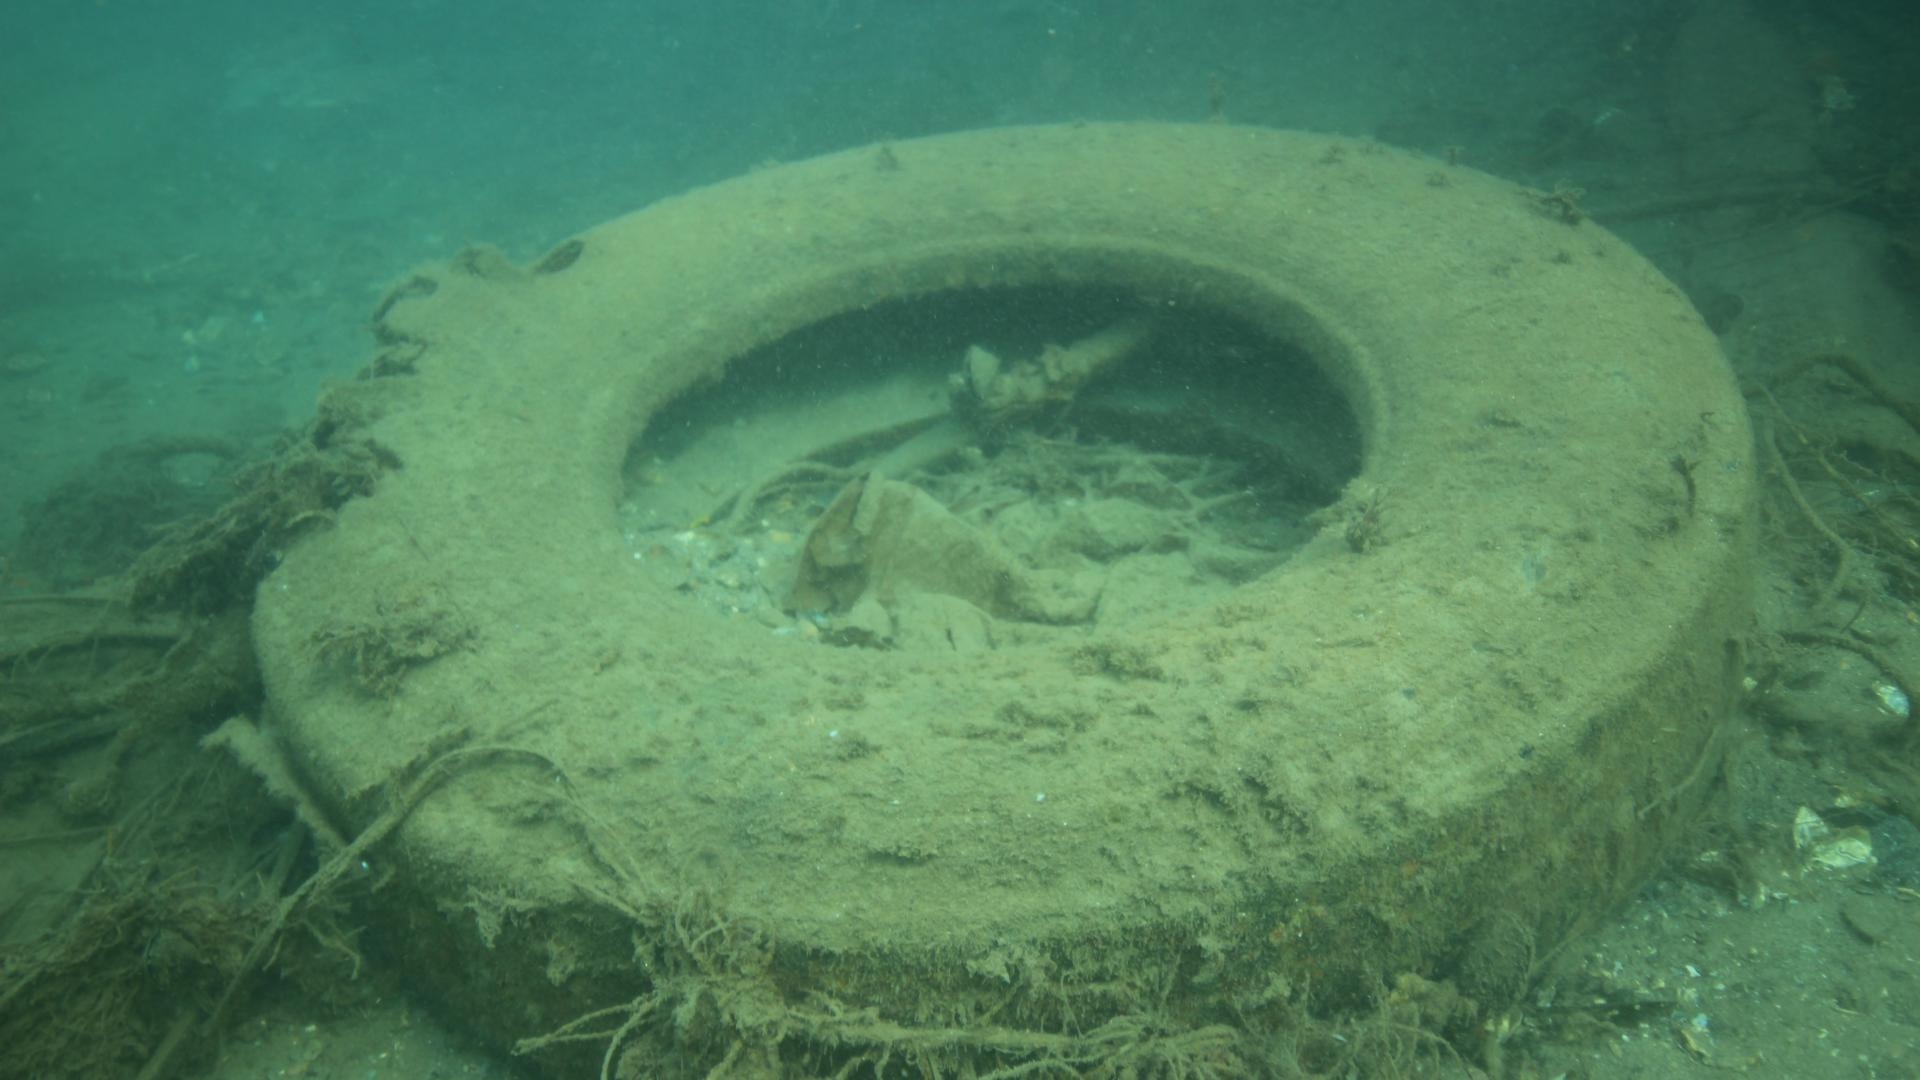tire: (248, 115, 1762, 1080)
